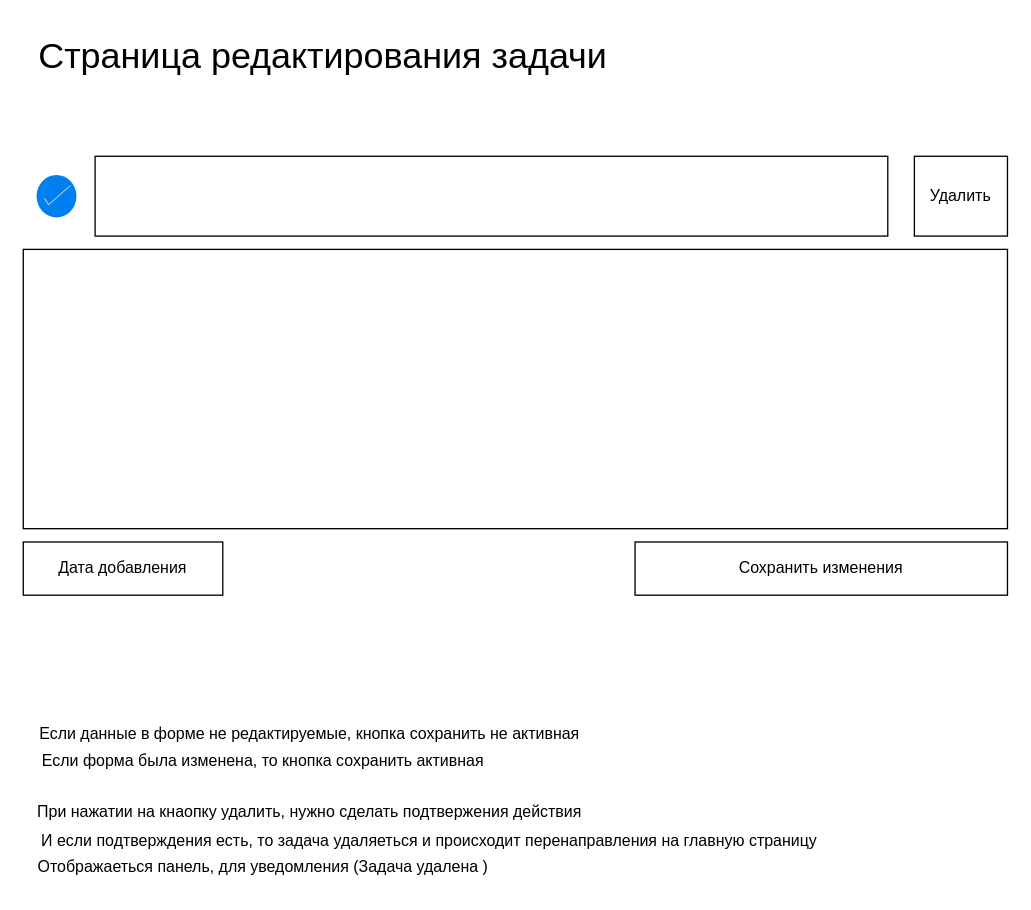
The diagram is 1031 pixels wide and 910 high, and some of its shapes have lost their labels. The shapes that lost their labels are listed below. From the top down, each one's centre as x and y in pixels, then its label:
At point 491,195: "названия задачи".
At point 514,388: "Описание задачи".
